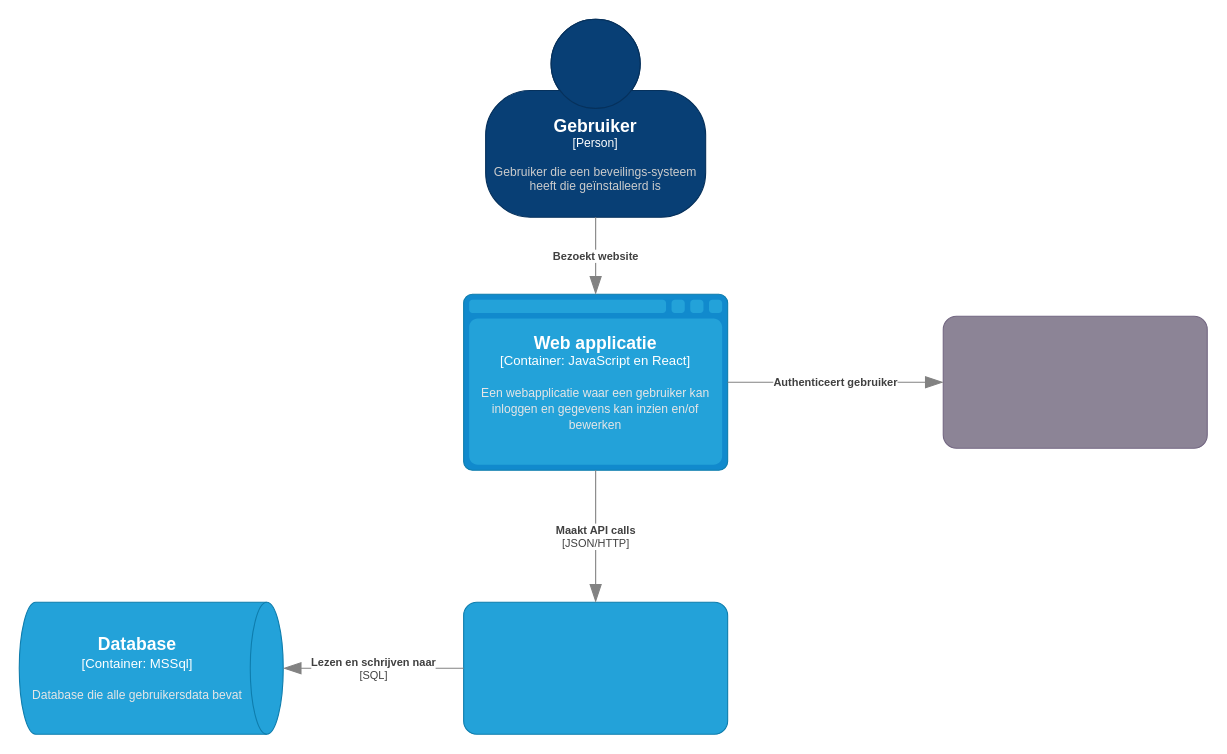
Some shapes in this 1227 by 754 pixel diagram are drawn without their labels. The centre of each missing label's shape, as x and y in pixels:
API [Container: .NET 7] Provides information from the database: (595,667)
Google Login System [Software System] Authenticatie met Google Account: (1074,381)
